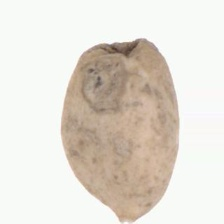L1: (86, 36, 144, 59), (104, 204, 150, 222)
L2: (61, 36, 182, 224)
